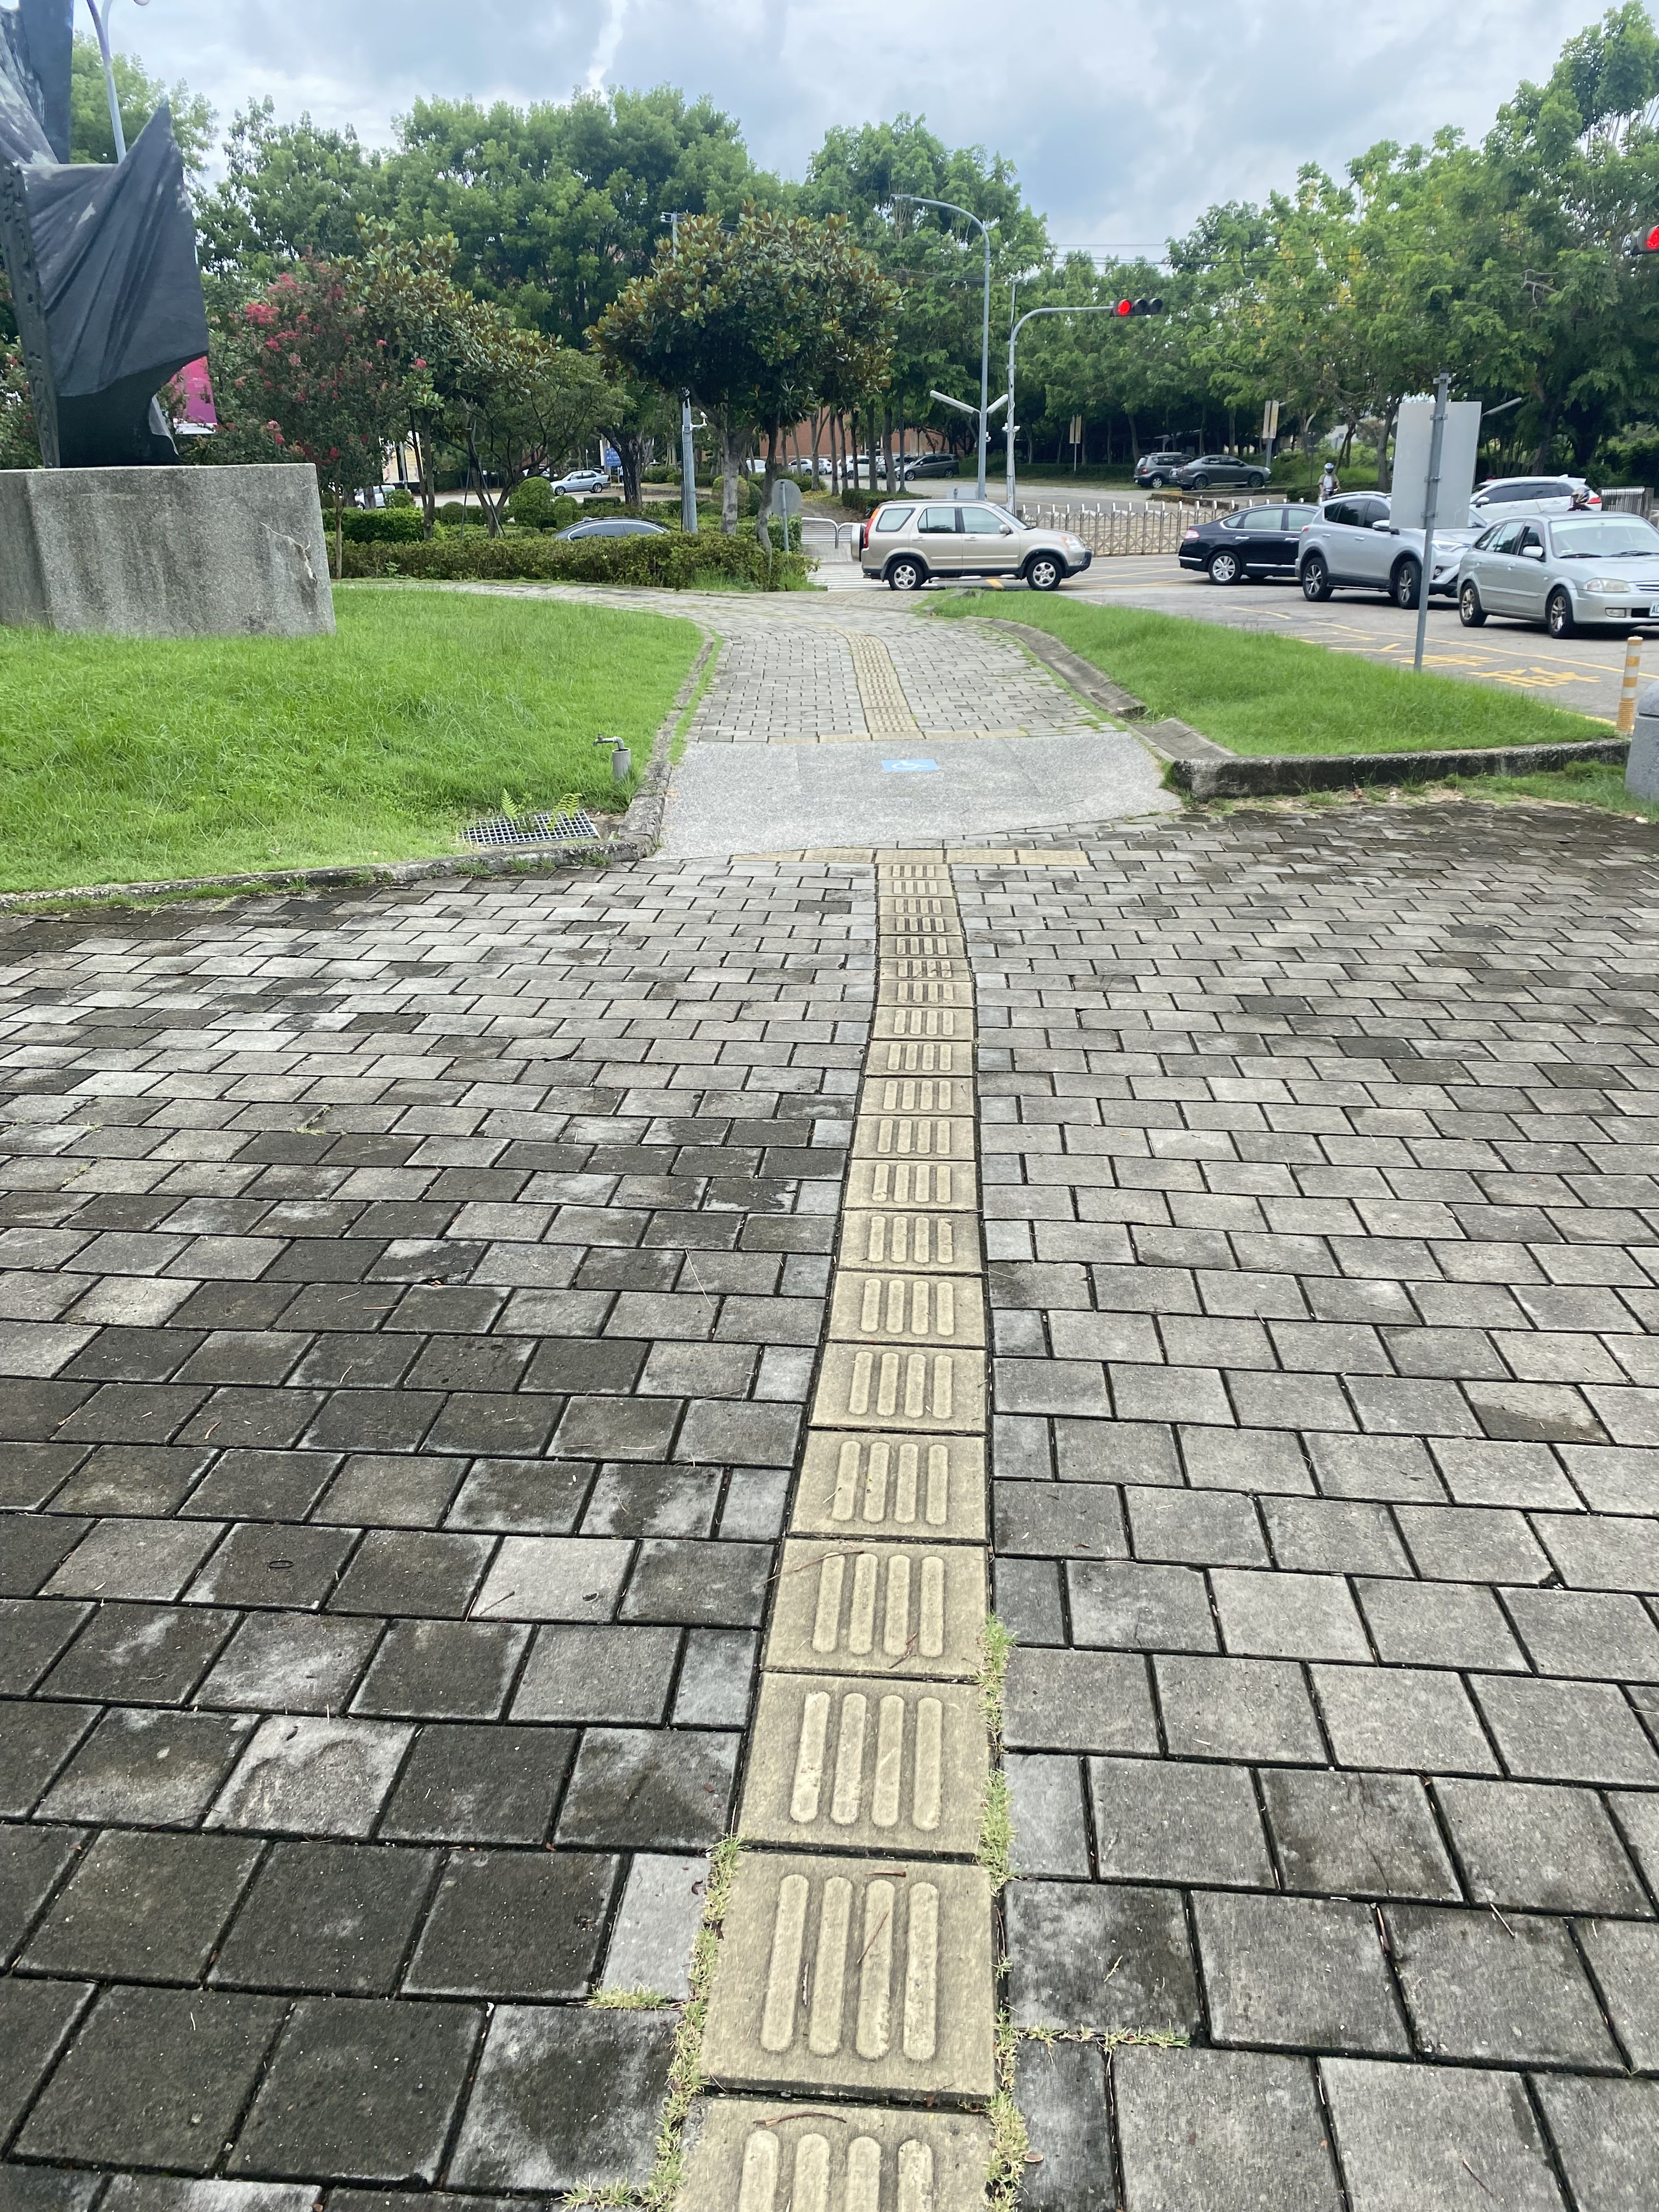0: (10, 874, 1659, 2212)
sidewalk: (516, 570, 1248, 907)
